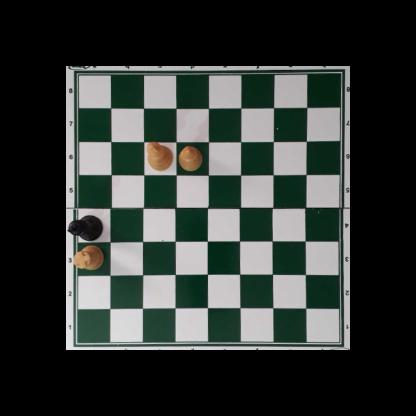black-king: (67, 215, 104, 242)
white-bishop: (178, 145, 202, 171)
white-king: (145, 141, 174, 170)
white-rook: (73, 246, 104, 270)
